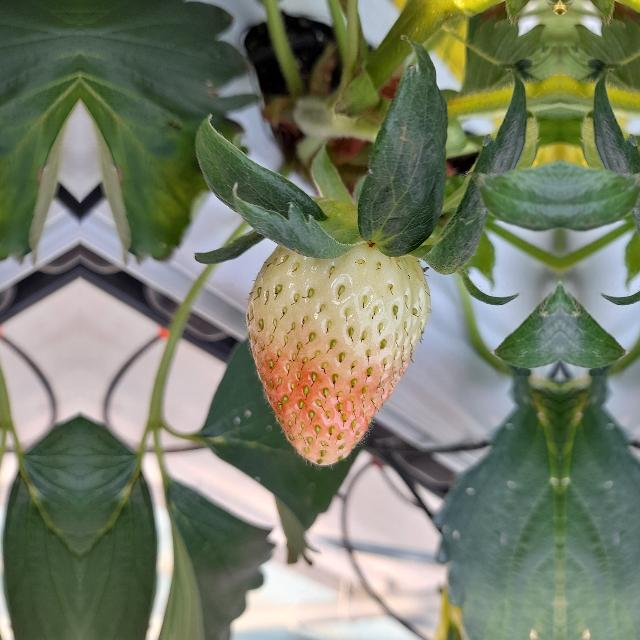Health_50: (244, 236, 432, 469)
